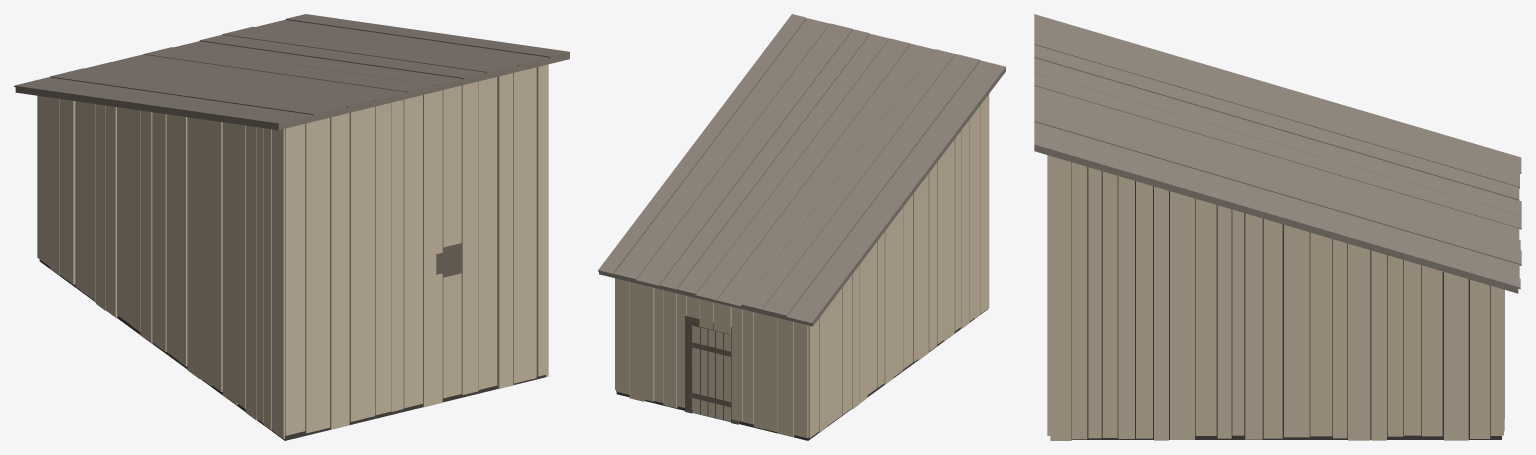
Rendered from recon_1835_south_d2_005__inferred_1835.glb.
3 renders of one model, left to right at view 1: azimuth 30°, elevation 25°; view 2: azimuth 150°, elevation 25°; view 3: azimuth 270°, elevation 25°, orthographic. The views are drawn at different scales.
Parts seen in each view (by area): view 1: recon_1835_south_d2_005__inferred_1835; view 2: recon_1835_south_d2_005__inferred_1835; view 3: recon_1835_south_d2_005__inferred_1835.
Boxes of the visible parts, bbox=[...] form: recon_1835_south_d2_005__inferred_1835: bbox=[14, 14, 569, 440]; recon_1835_south_d2_005__inferred_1835: bbox=[598, 14, 1005, 440]; recon_1835_south_d2_005__inferred_1835: bbox=[1034, 14, 1521, 440].
Size of the model in its own units: 4.75 by 5.11 by 7.47.
